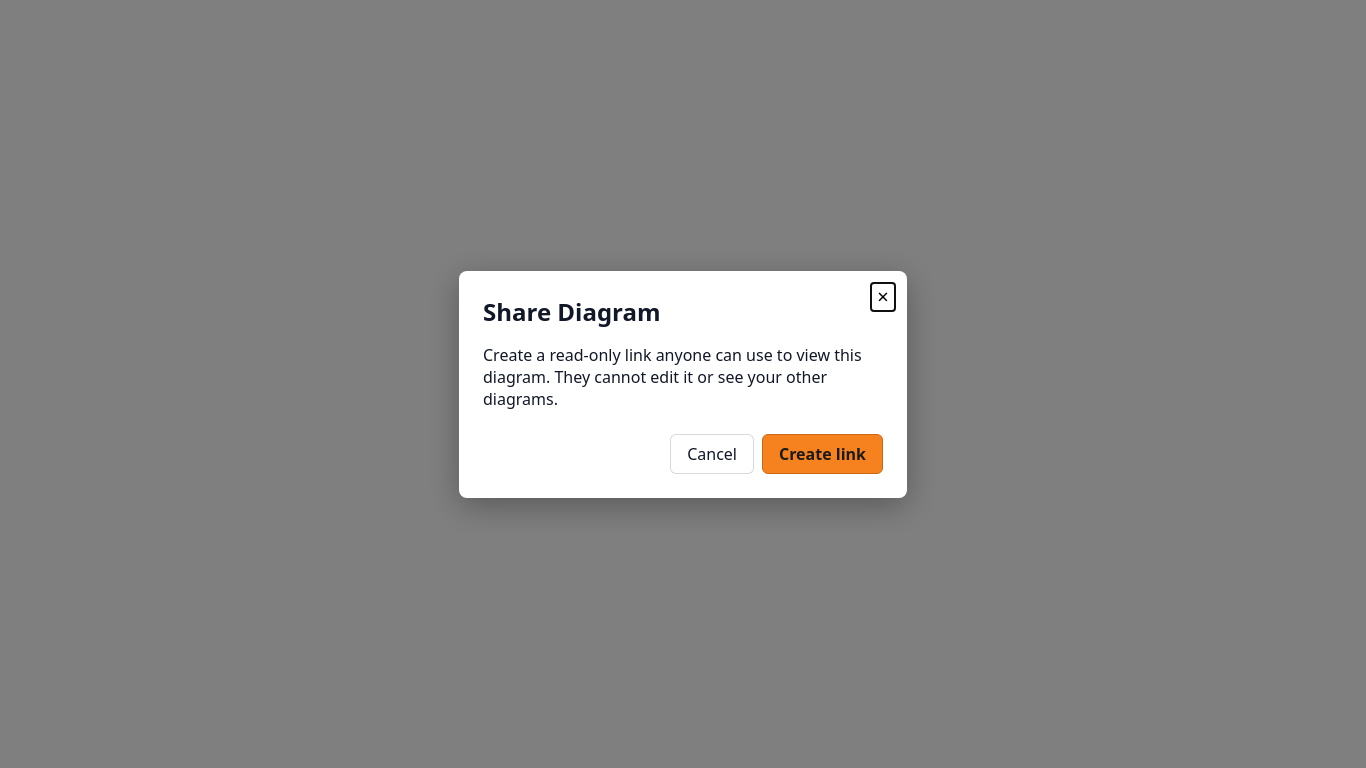
Scenario: creating a link › copies the link and confirms it did
Step 1. Click the button "Create link" → (822, 454), box 762,434 -> 883,474
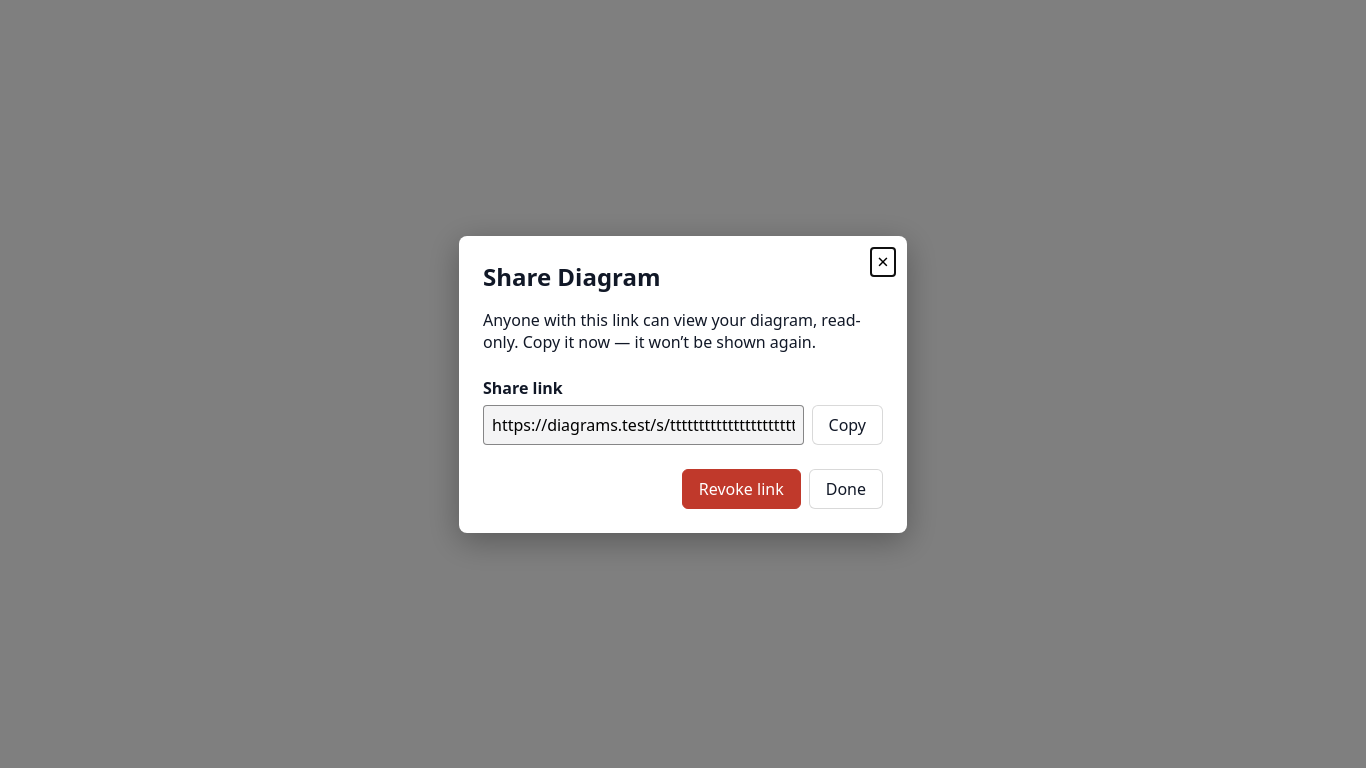
Check: the field labelled "Share link" is shown, box 483,404 -> 804,444
Step 2. Click the button "Copy" → (847, 424), box 812,404 -> 883,444
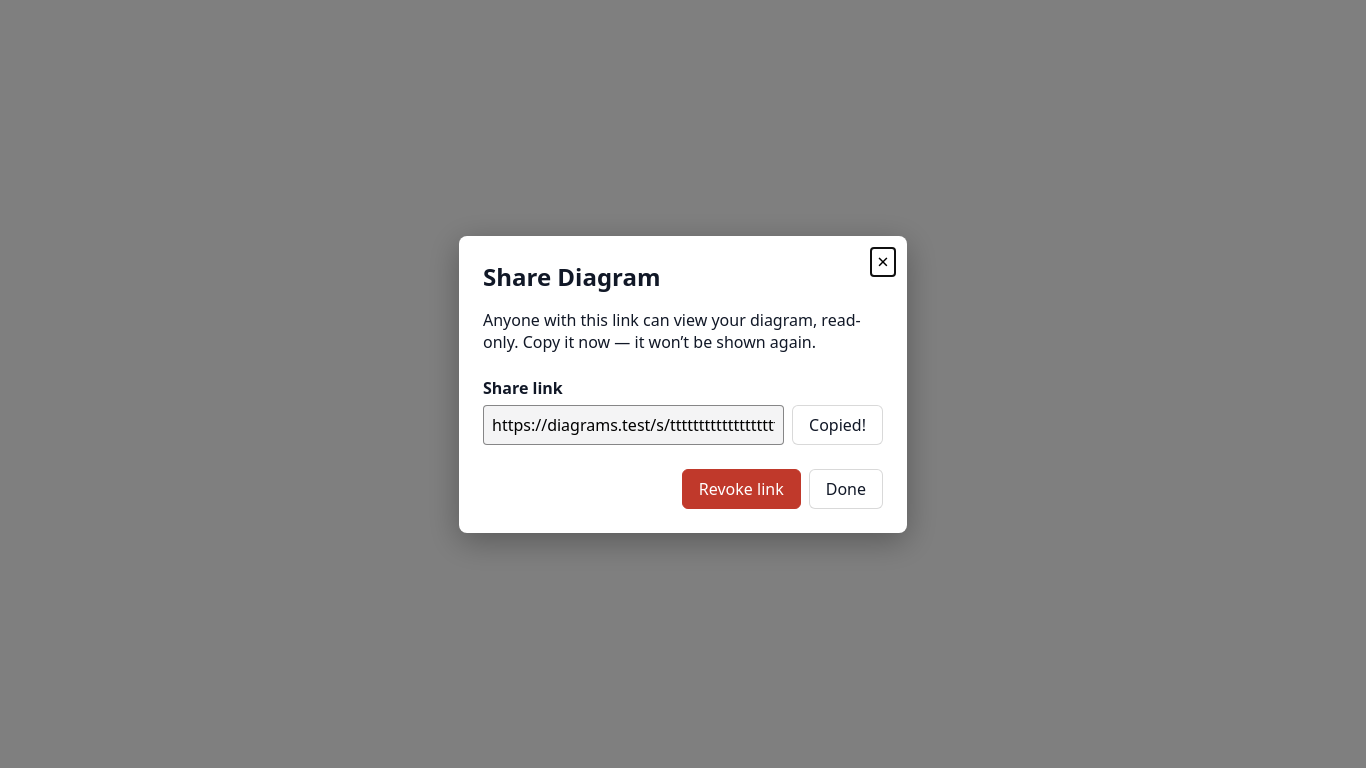
Check: the button "Copied!" is shown, box 792,404 -> 883,444
